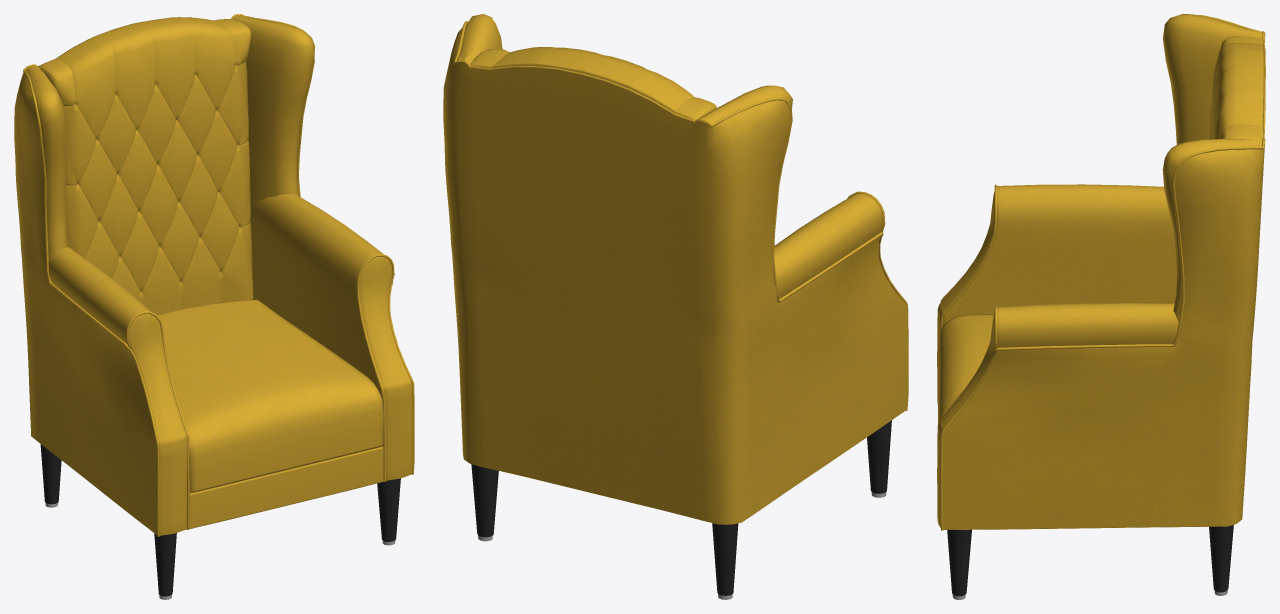
The model's file is LRCFZ6CEGGHUTA4G.glb.
The picture shows the model from 3 angles, left to right: view 1: azimuth 30°, elevation 25°; view 2: azimuth 150°, elevation 25°; view 3: azimuth 270°, elevation 25°; orthographic projection. The views are drawn at different scales.
Parts seen in each view (by area): view 1: polySurface59; view 2: polySurface59; view 3: polySurface59.
Part boxes in pixels (bbox=[...]): polySurface59: bbox=[14, 14, 414, 599]; polySurface59: bbox=[443, 14, 908, 599]; polySurface59: bbox=[937, 14, 1265, 599].
Bounding box in the file's own units: 0.7366 × 1.13 × 0.7112.
4 materials, 1 textured.
